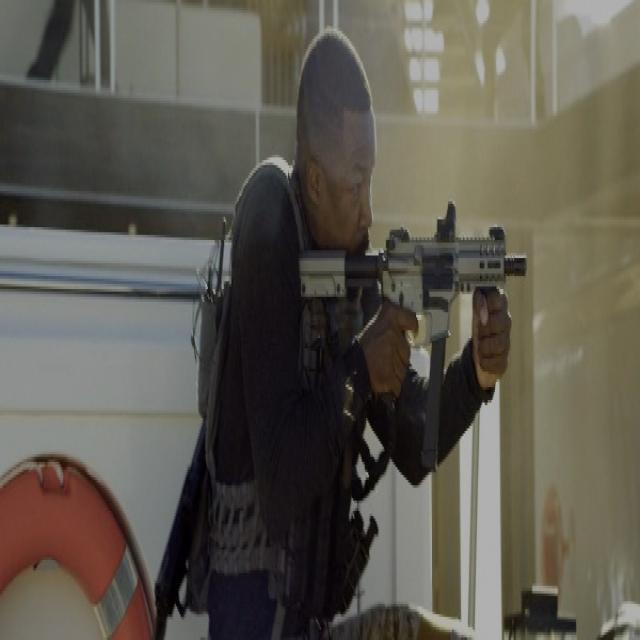rifle: (297, 207, 531, 482)
